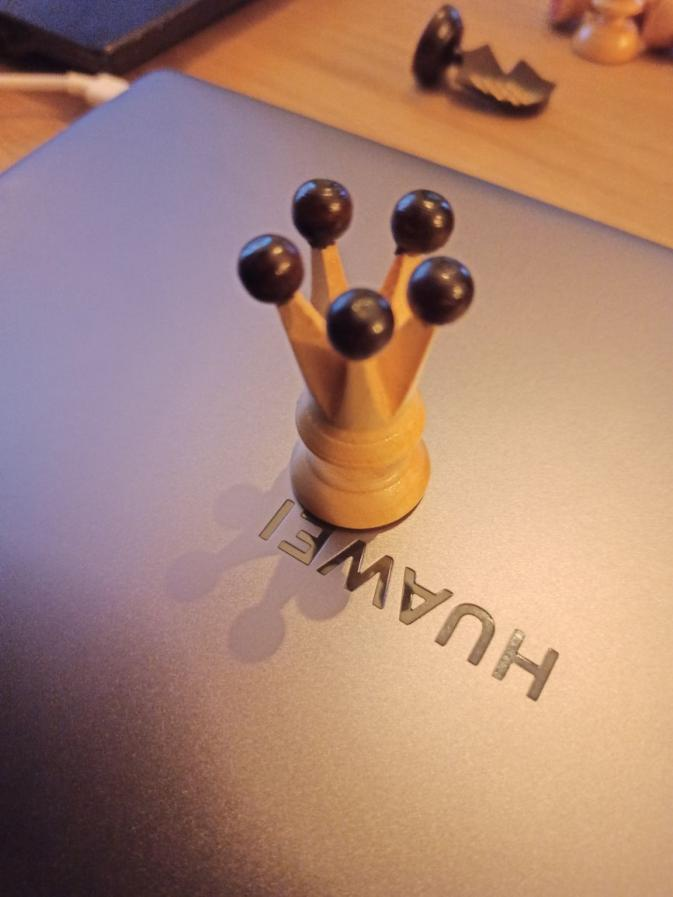wqueen: (236, 179, 481, 535)
